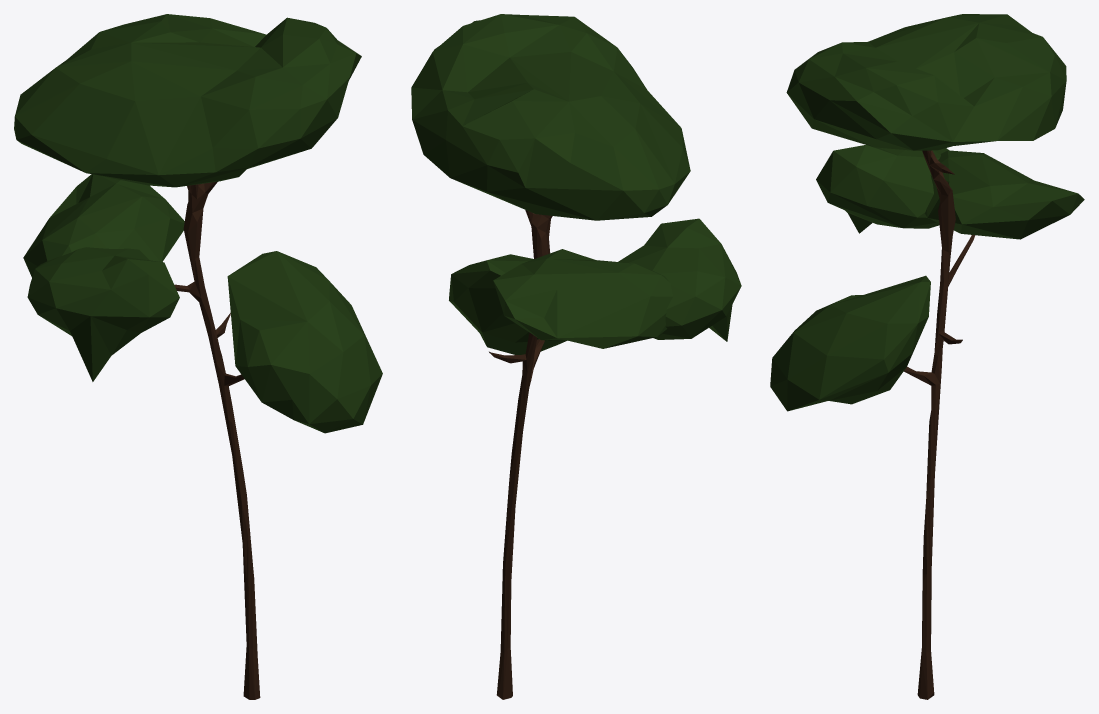
Rendered from SM_tree_jungle_07.fbx.
The picture shows the model from 3 angles, left to right: view 1: azimuth 30°, elevation 25°; view 2: azimuth 150°, elevation 25°; view 3: azimuth 270°, elevation 25°; orthographic projection. The views are drawn at different scales.
Visible parts, largest first — view 1: Object007; view 2: Object007; view 3: Object007.
Boxes of the visible parts, x1,y1,x2,y2 form: Object007: (14, 14, 382, 699); Object007: (411, 14, 741, 699); Object007: (770, 14, 1084, 699).
Bounding box in the file's own units: 259 × 527 × 233.
